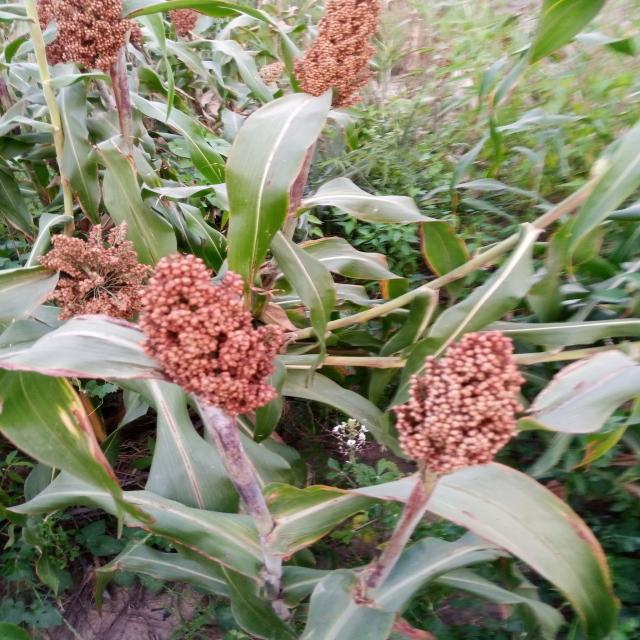RipeSorghum: (35, 221, 296, 417), (400, 325, 541, 486), (276, 0, 387, 104)
